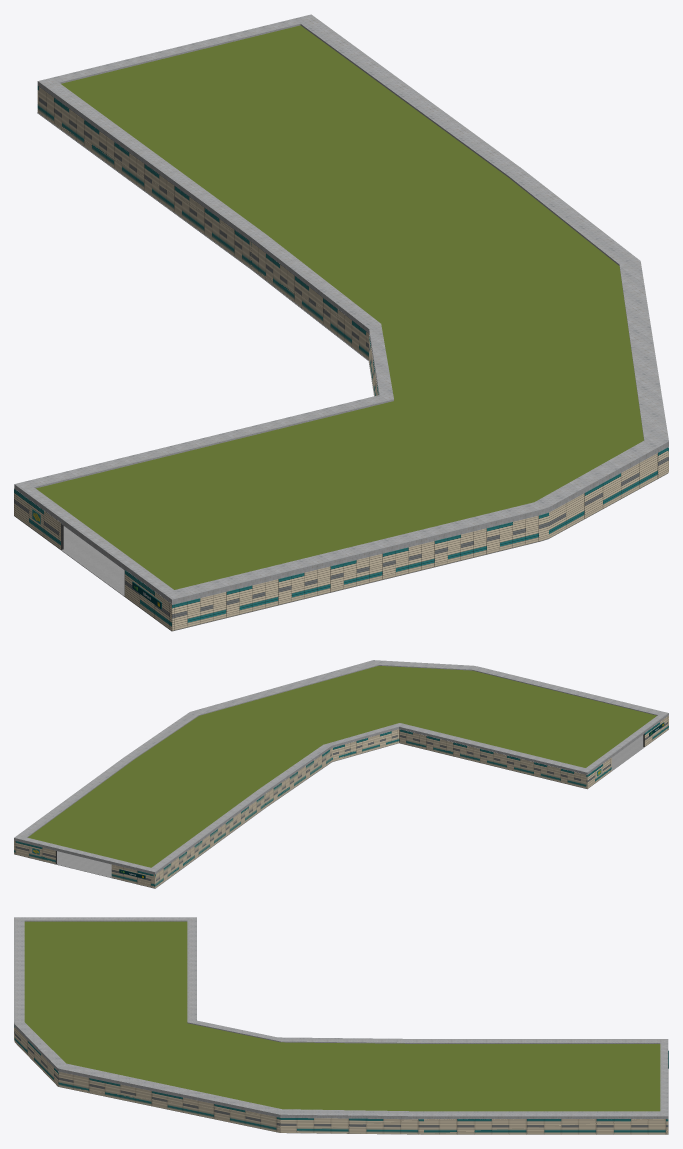
Rendered from BITH.obj.
3 renders of one model, top to bottom at view 1: azimuth 30°, elevation 25°; view 2: azimuth 150°, elevation 25°; view 3: azimuth 270°, elevation 25°, orthographic. The views are drawn at different scales.
Visible parts, largest first — view 1: Mesh84 Component_2_1 Model, Mesh15 Group15 Model, Mesh7 Group7 Model, Mesh5 Group5 Model, Mesh16 Group16 Model, Mesh17 Group17 Model, Mesh1 Group1 Model, Mesh2 Group2 Model; view 2: Mesh84 Component_2_1 Model, Mesh14 Group14 Model, Mesh17 Group17 Model, Mesh7 Group7 Model, Mesh6 Group6 Model, Mesh5 Group5 Model, Mesh3 Group3 Model, Mesh4 Group4 Model, Mesh1 Group1 Model; view 3: Mesh84 Component_2_1 Model, Mesh11 Group11 Model, Mesh10 Group10 Model, Mesh8 Group8 Model, Mesh16 Group16 Model.
Boxes of the visible parts, x1,y1,x2,y2 form: Mesh84 Component_2_1 Model: [14, 14, 668, 604]; Mesh15 Group15 Model: [174, 515, 541, 630]; Mesh7 Group7 Model: [37, 86, 251, 268]; Mesh5 Group5 Model: [251, 242, 368, 359]; Mesh16 Group16 Model: [549, 447, 668, 538]; Mesh17 Group17 Model: [14, 112, 667, 631]; Mesh1 Group1 Model: [14, 489, 63, 549]; Mesh2 Group2 Model: [124, 570, 174, 630]; Mesh84 Component_2_1 Model: [14, 660, 668, 874]; Mesh14 Group14 Model: [399, 729, 586, 788]; Mesh17 Group17 Model: [14, 729, 668, 888]; Mesh7 Group7 Model: [153, 795, 265, 888]; Mesh6 Group6 Model: [332, 729, 398, 761]; Mesh5 Group5 Model: [265, 748, 331, 807]; Mesh3 Group3 Model: [14, 840, 56, 864]; Mesh4 Group4 Model: [111, 864, 153, 887]; Mesh1 Group1 Model: [586, 757, 611, 788]; Mesh84 Component_2_1 Model: [14, 917, 668, 1119]; Mesh11 Group11 Model: [424, 1119, 666, 1134]; Mesh10 Group10 Model: [58, 1072, 280, 1132]; Mesh8 Group8 Model: [280, 1118, 423, 1134]; Mesh16 Group16 Model: [14, 1027, 58, 1085].
Bounding box in the file's own units: 136 × 5.89 × 189.
